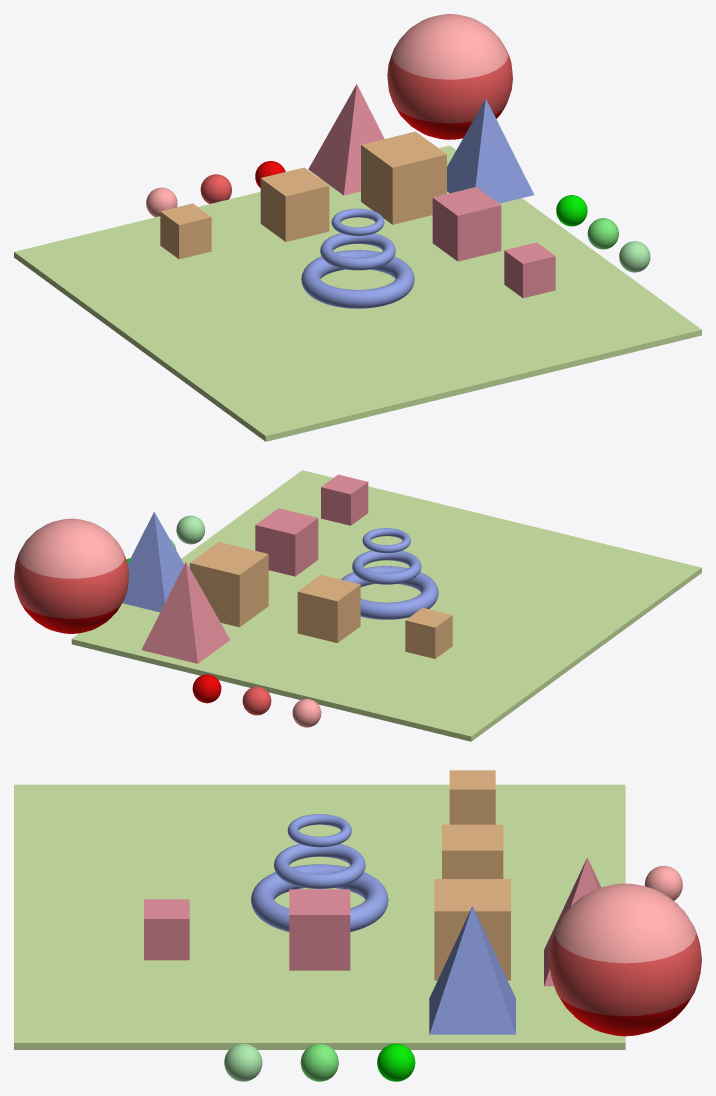
3 renders of one model, top to bottom at view 1: azimuth 30°, elevation 25°; view 2: azimuth 150°, elevation 25°; view 3: azimuth 270°, elevation 25°, orthographic. The views are drawn at different scales.
Parts seen in each view (by area): view 1: Cube0, BigSphere, Cube1, Pyramide1, Cube4, Cube2, Pyramide0, Torus0, Cube3, Cube5, Torus1, Torus2 (+5 smaller); view 2: Cube0, BigSphere, Cube1, Pyramide0, Pyramide1, Cube2, Cube4, Torus0, Cube3, Cube5, Torus1, Torus2 (+4 smaller); view 3: Cube0, BigSphere, Pyramide1, Cube1, Cube4, Torus0, Cube2, Cube5, Torus1, Cube3, Torus2, Pyramide0 (+4 smaller).
Boxes of the visible parts, bbox=[...] form: Cube0: bbox=[14, 145, 701, 441]; BigSphere: bbox=[387, 14, 512, 139]; Cube1: bbox=[361, 131, 446, 224]; Pyramide1: bbox=[447, 98, 534, 203]; Cube4: bbox=[432, 187, 501, 261]; Cube2: bbox=[260, 167, 329, 241]; Pyramide0: bbox=[308, 84, 384, 195]; Torus0: bbox=[301, 250, 414, 308]; Cube3: bbox=[160, 203, 211, 259]; Cube5: bbox=[504, 242, 555, 298]; Torus1: bbox=[320, 233, 395, 270]; Torus2: bbox=[331, 208, 384, 235]; Cube0: bbox=[71, 470, 701, 741]; BigSphere: bbox=[14, 518, 128, 633]; Cube1: bbox=[189, 542, 268, 627]; Pyramide0: bbox=[141, 562, 230, 663]; Pyramide1: bbox=[122, 512, 184, 612]; Cube2: bbox=[297, 575, 360, 642]; Cube4: bbox=[255, 508, 318, 576]; Torus0: bbox=[341, 566, 438, 619]; Cube3: bbox=[405, 608, 452, 658]; Cube5: bbox=[321, 474, 368, 525]; Torus1: bbox=[352, 550, 421, 584]; Torus2: bbox=[362, 528, 410, 553]; Cube0: bbox=[14, 784, 625, 1049]; BigSphere: bbox=[549, 883, 701, 1036]; Pyramide1: bbox=[429, 906, 515, 1034]; Cube1: bbox=[434, 879, 510, 980]; Cube4: bbox=[289, 889, 350, 970]; Torus0: bbox=[251, 864, 388, 931]; Cube2: bbox=[442, 824, 503, 878]; Cube5: bbox=[144, 899, 189, 960]; Torus1: bbox=[274, 844, 365, 888]; Cube3: bbox=[449, 770, 495, 824]; Torus2: bbox=[287, 814, 351, 847]; Pyramide0: bbox=[544, 857, 601, 986].
Bounding box in the file's own units: 18 × 5 × 18.
